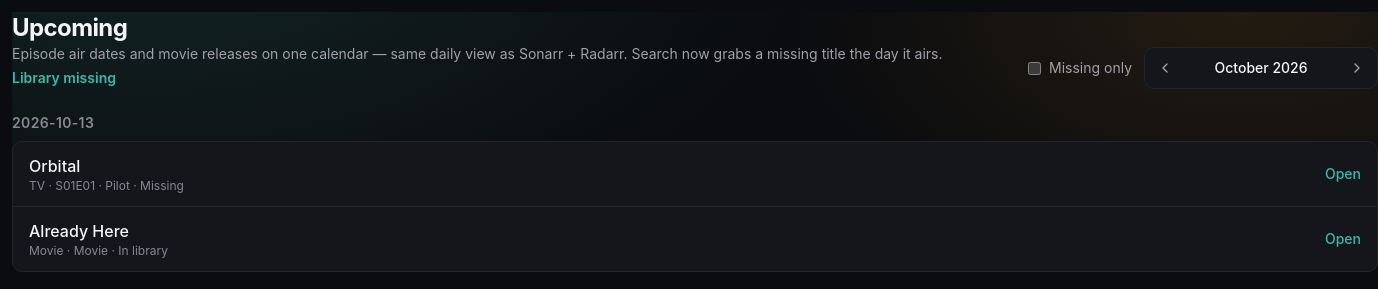
Test: Upcoming page › hides in-library rows when Missing only is checked
Expected: the text "Orbital" is shown, x1=29 y1=156 x2=80 y2=176
Expected: the text "Already Here" is shown, x1=29 y1=221 x2=129 y2=241
Click the checkbox labelled "Missing only" at (1034, 68), box x1=1028 y1=62 x2=1041 y2=74
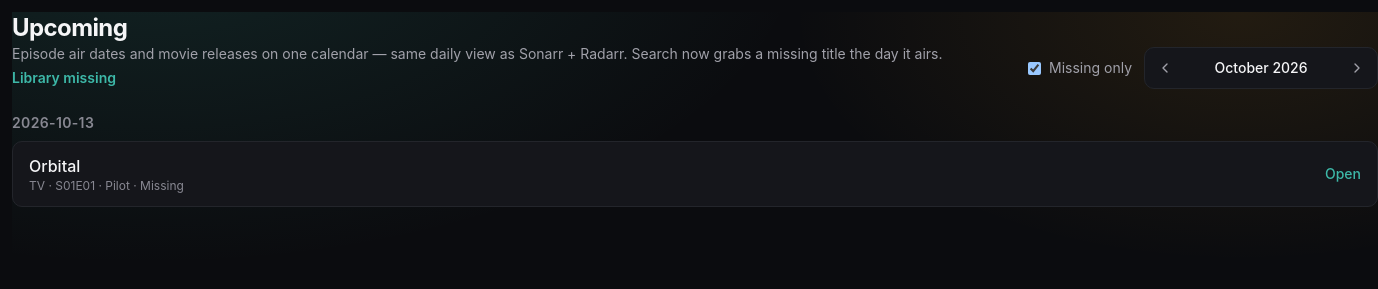
Expected: the text "Orbital" is shown, x1=29 y1=156 x2=80 y2=176
Now the text "Already Here" is gone
